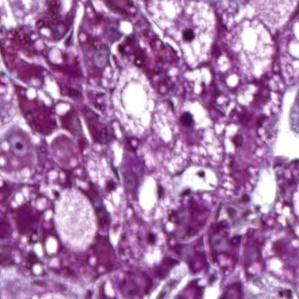ballooning: (139, 2, 218, 71), (109, 64, 159, 142), (224, 17, 280, 81), (51, 188, 102, 256)
